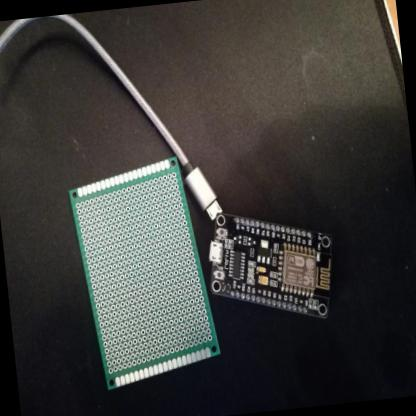ESP8266: (198, 198, 344, 338)
